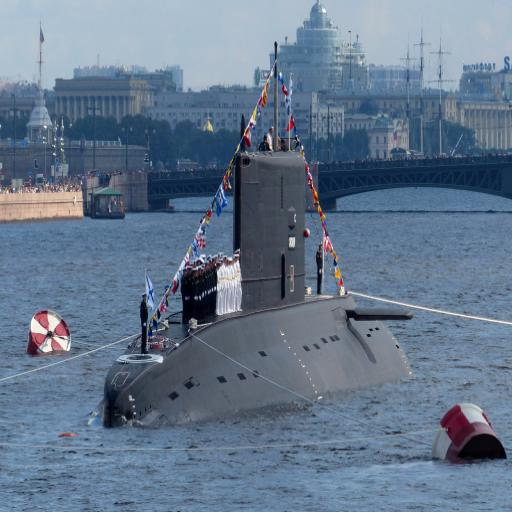submarine: (104, 165, 420, 433)
